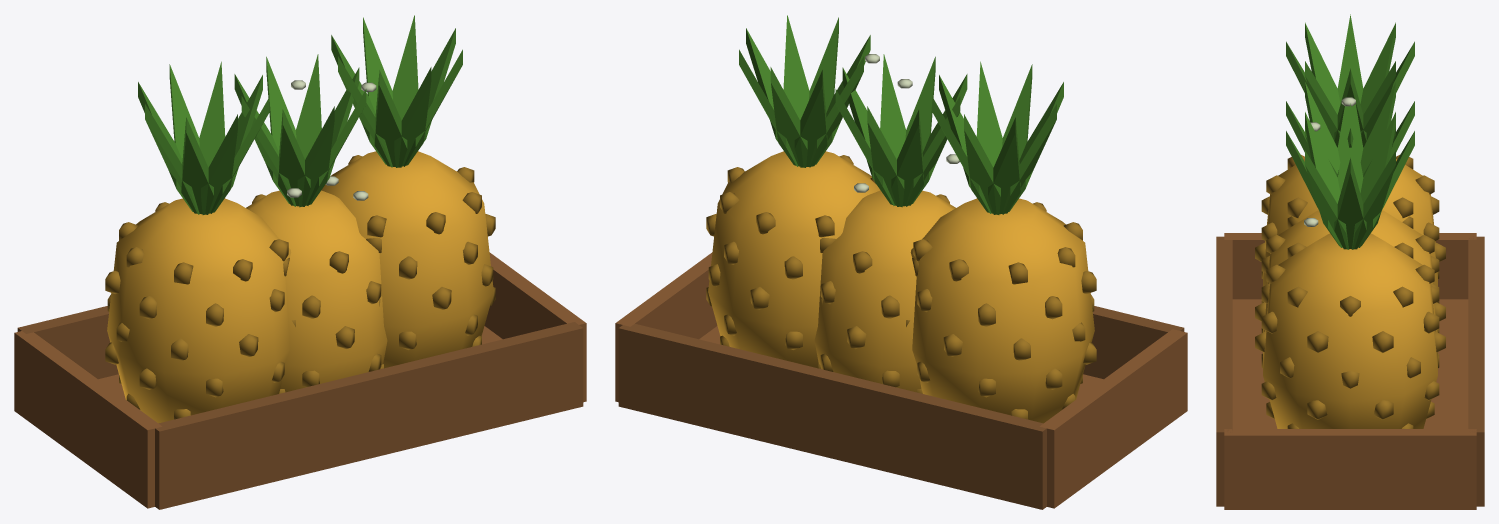
The model's file is Fruit_Pineapple.fbx.
3 views of the same model, side by side, from view 1: azimuth 30°, elevation 25°; view 2: azimuth 150°, elevation 25°; view 3: azimuth 270°, elevation 25° (orthographic). The views are drawn at different scales.
Parts seen in each view (by area): view 1: Fruit_Pineapple__Stack, Fruit_Pineapple; view 2: Fruit_Pineapple__Stack, Fruit_Pineapple; view 3: Fruit_Pineapple__Stack, Fruit_Pineapple.
Boxes of the visible parts, x1,y1,x2,y2 form: Fruit_Pineapple__Stack: (14,15,586,509); Fruit_Pineapple: (234,54,387,392); Fruit_Pineapple__Stack: (615,15,1187,509); Fruit_Pineapple: (814,54,967,392); Fruit_Pineapple__Stack: (1216,14,1484,509); Fruit_Pineapple: (1255,82,1445,355).
Size of the model in its own units: 0.2344 by 0.174 by 0.1312.
